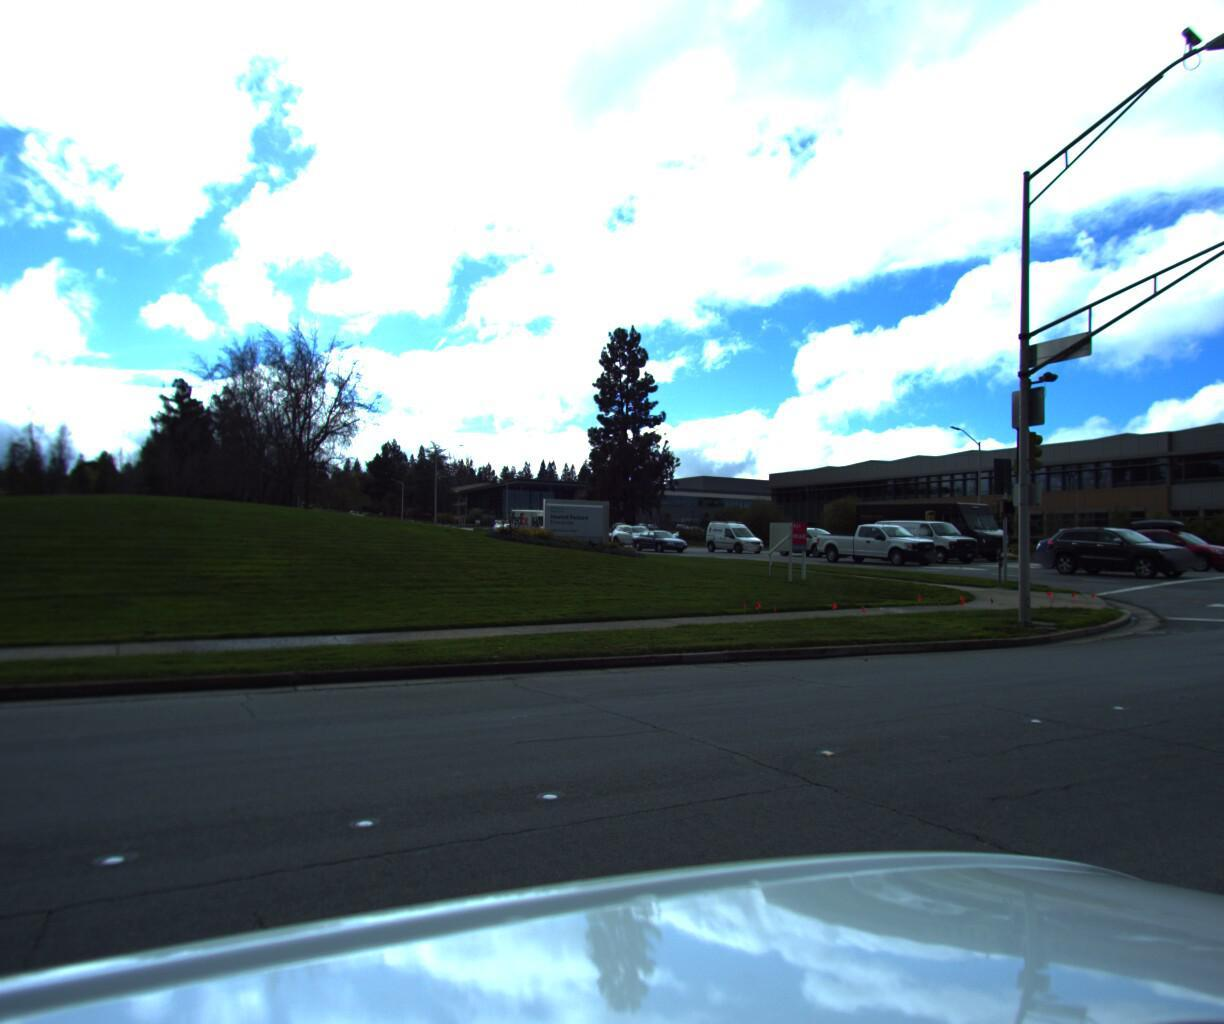car: (1031, 517, 1203, 574), (812, 517, 946, 565), (1103, 522, 1224, 574), (1018, 524, 1148, 569), (869, 514, 983, 560), (773, 520, 854, 553), (702, 513, 768, 550), (630, 531, 691, 554), (607, 518, 663, 543)
truck: (851, 494, 1025, 564), (505, 501, 577, 539)
